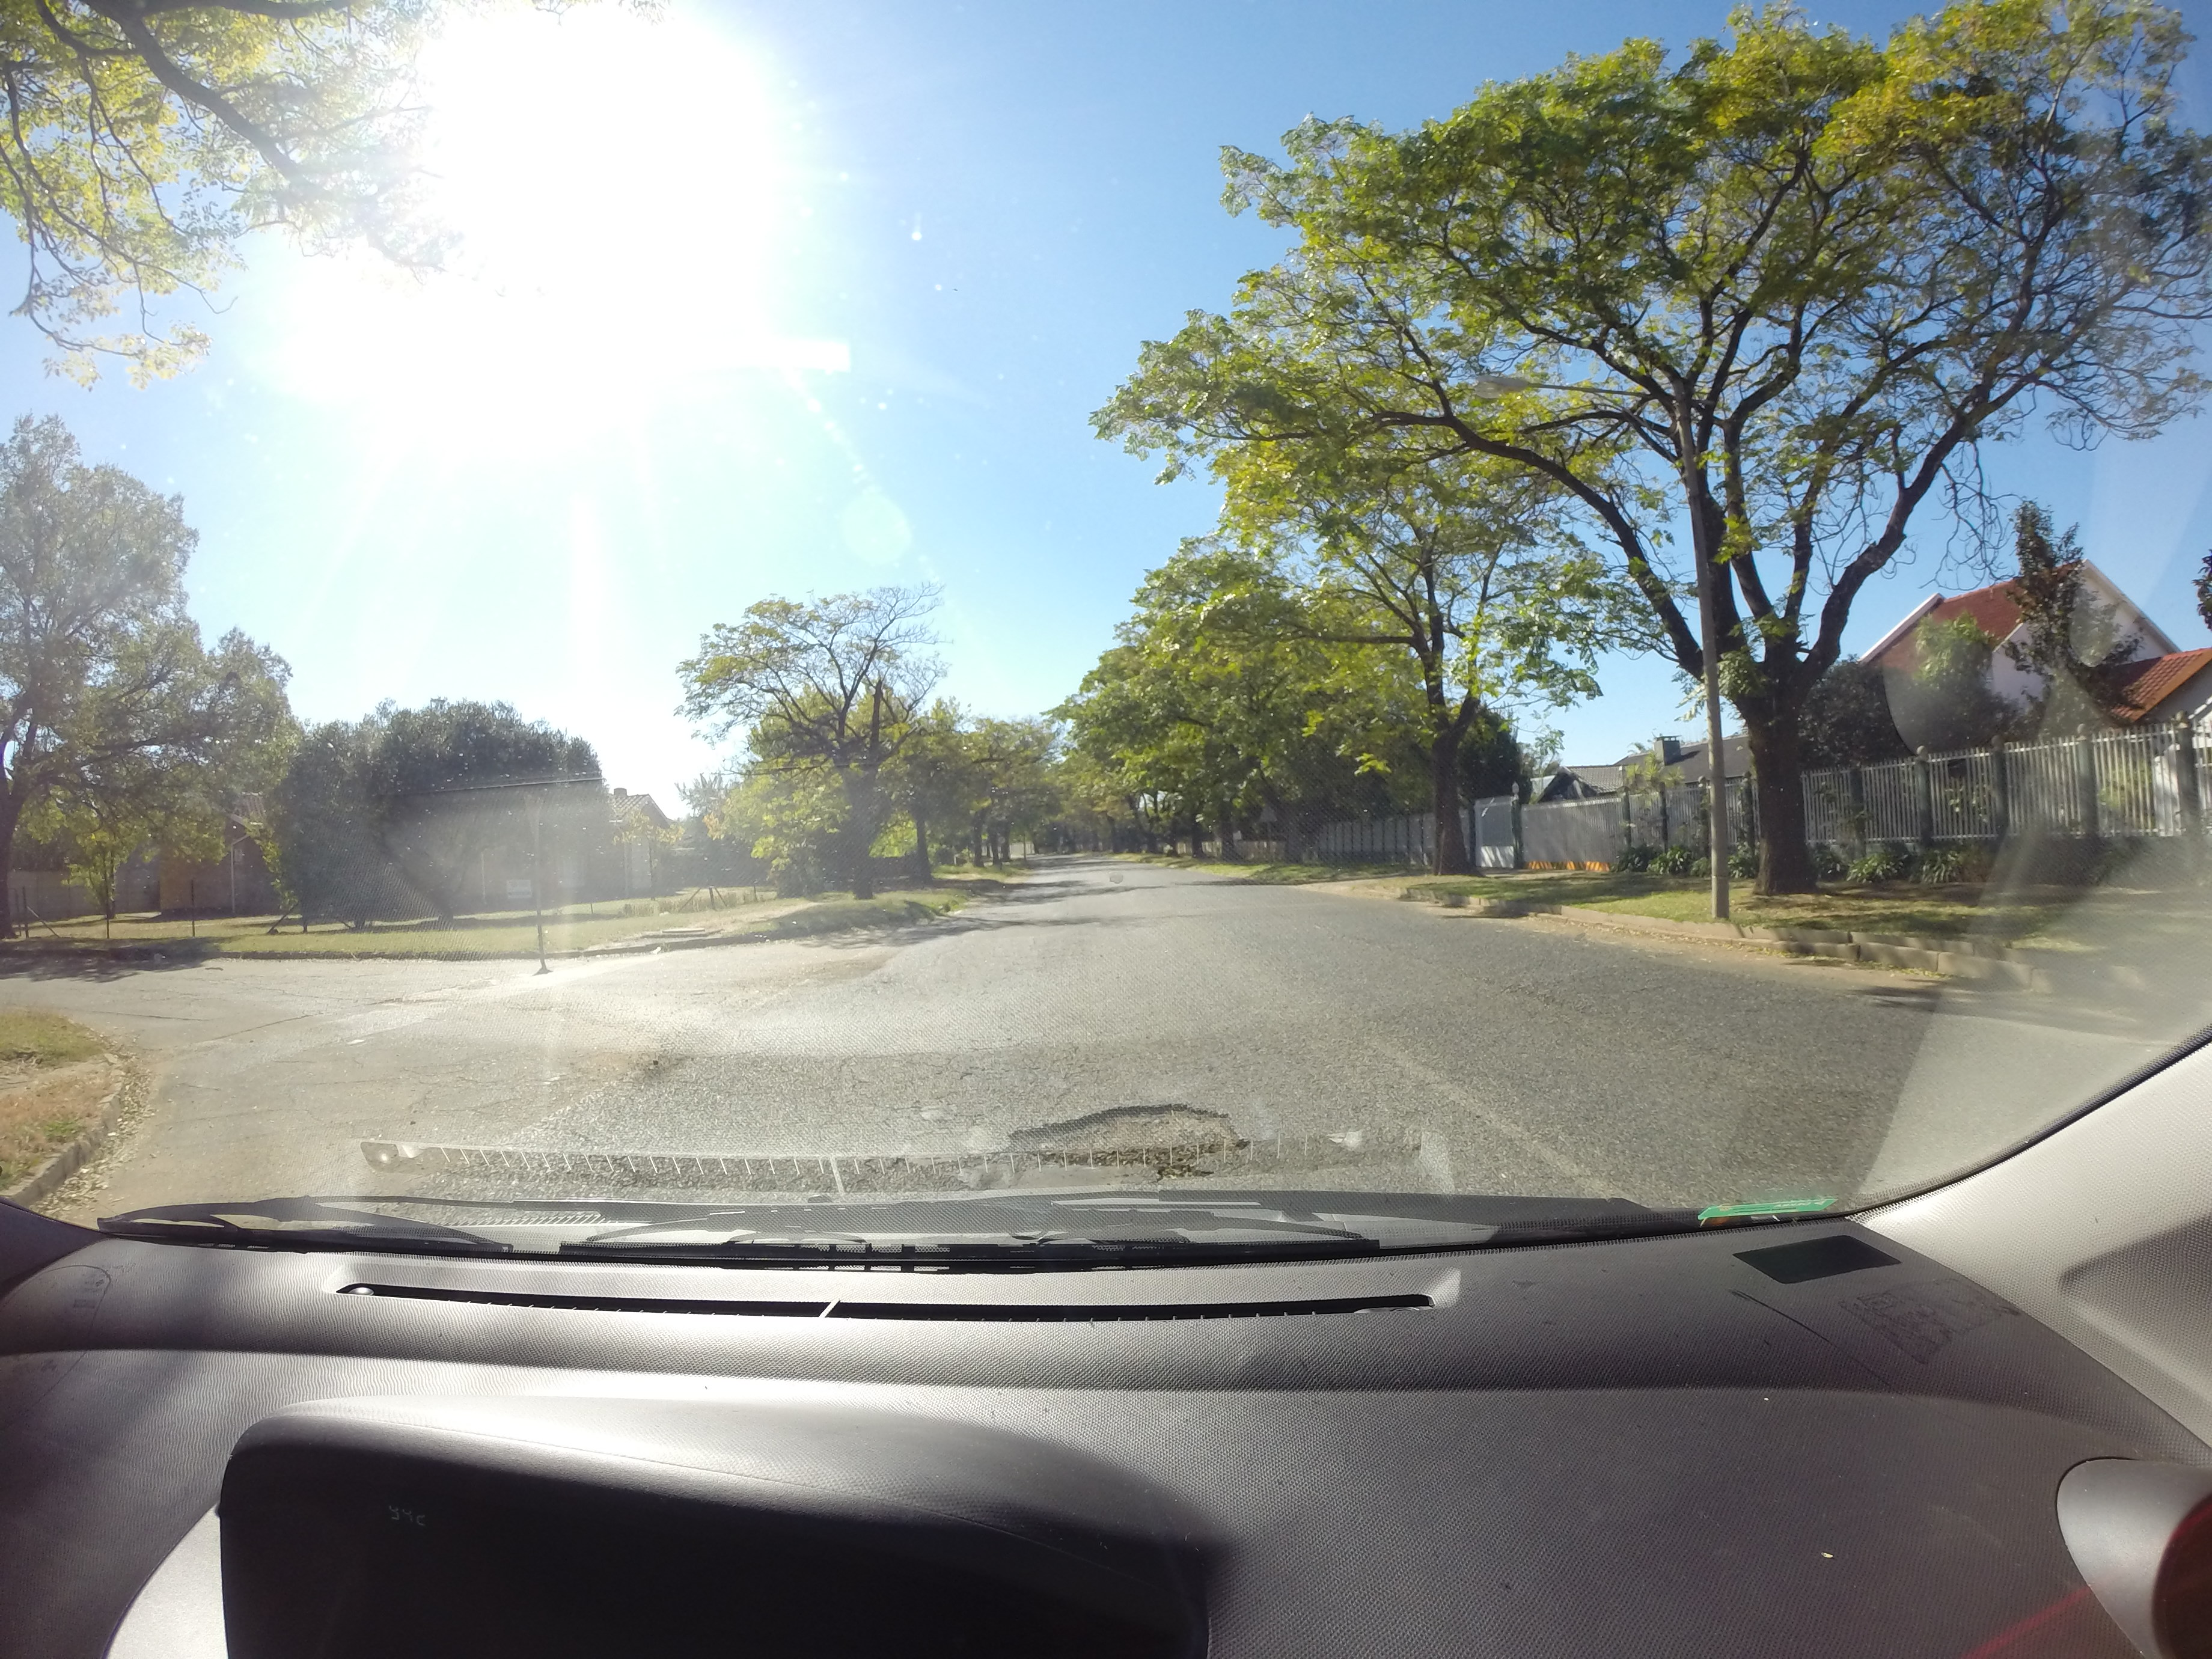pothole: (1005, 1072, 1258, 1185)
